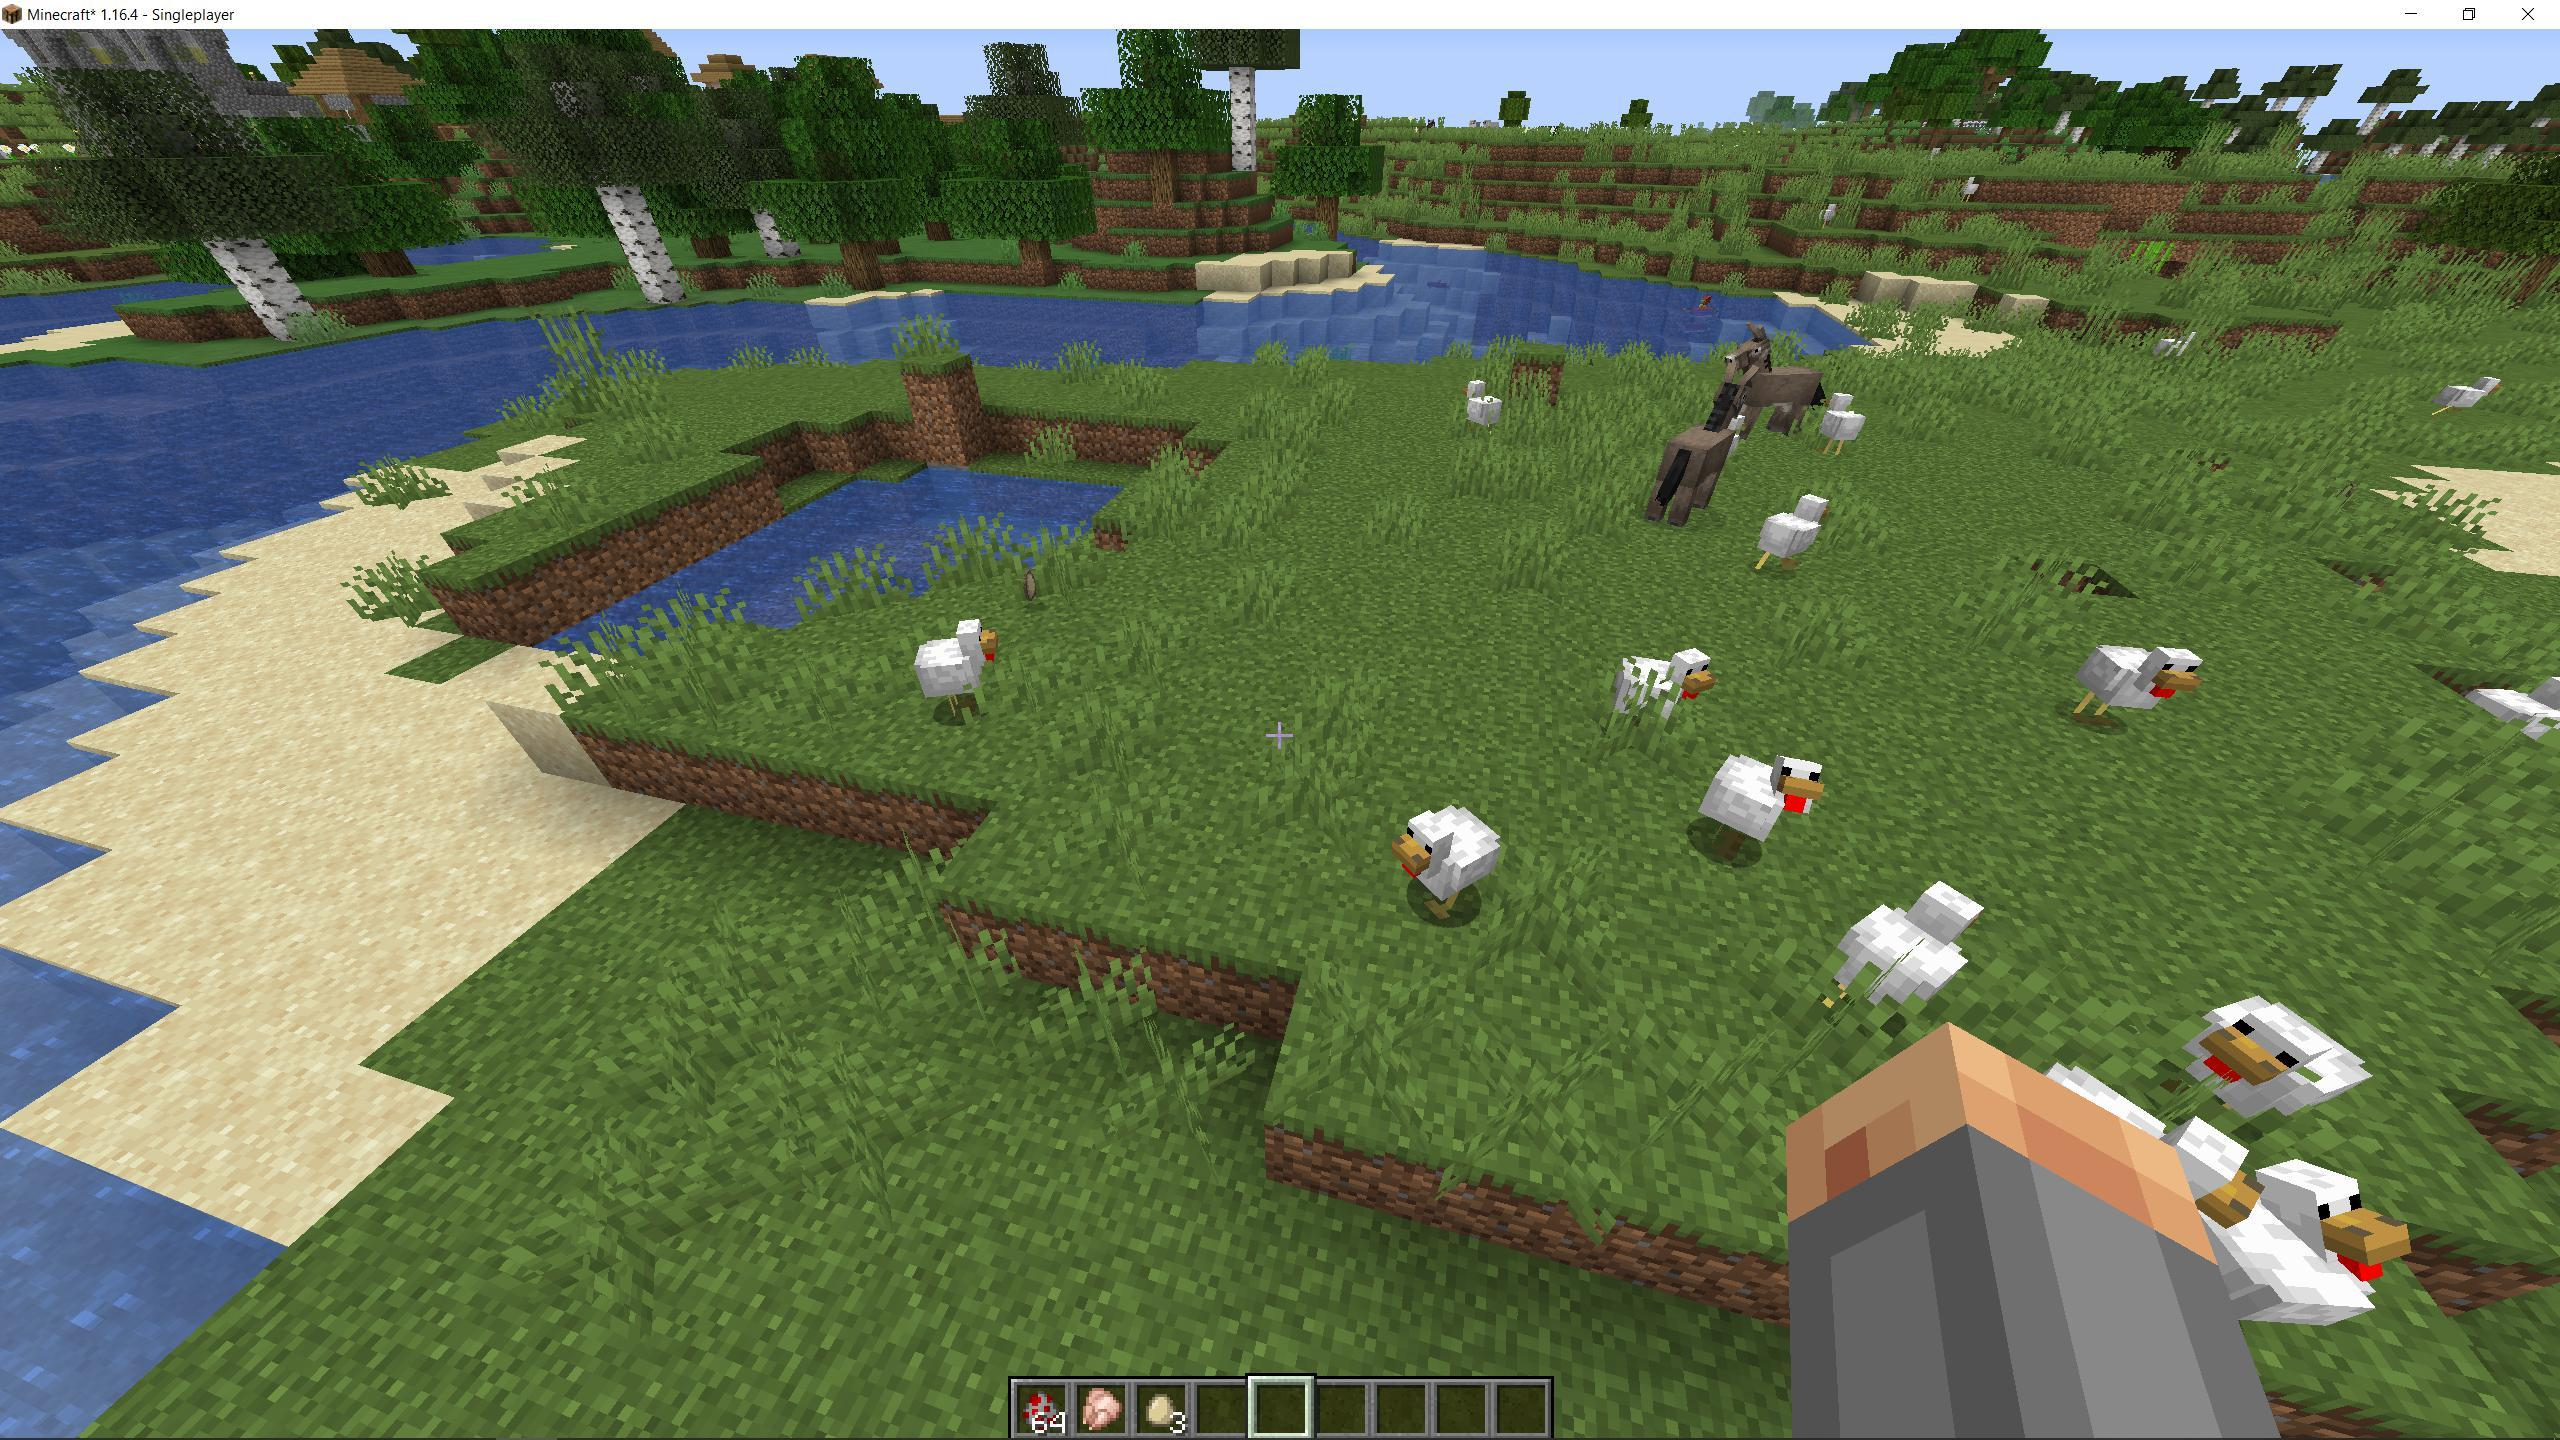chicken: (2178, 992, 2370, 1131), (1822, 888, 1994, 1013), (1384, 798, 1514, 934), (1686, 747, 1825, 867), (2071, 638, 2203, 728), (909, 621, 1009, 724)
